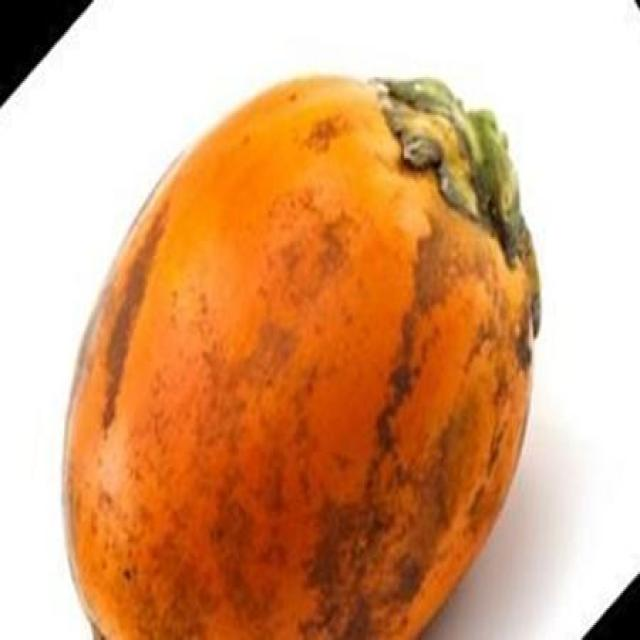good: (58, 77, 542, 638)
